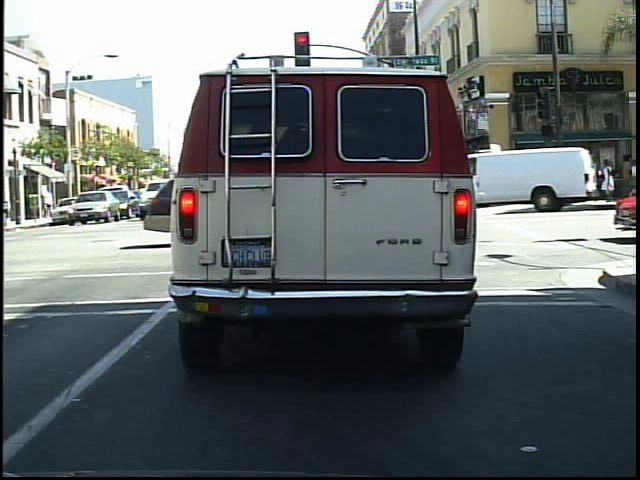person: (575, 143, 599, 210), (538, 152, 561, 209), (515, 154, 536, 207), (601, 155, 620, 201)
